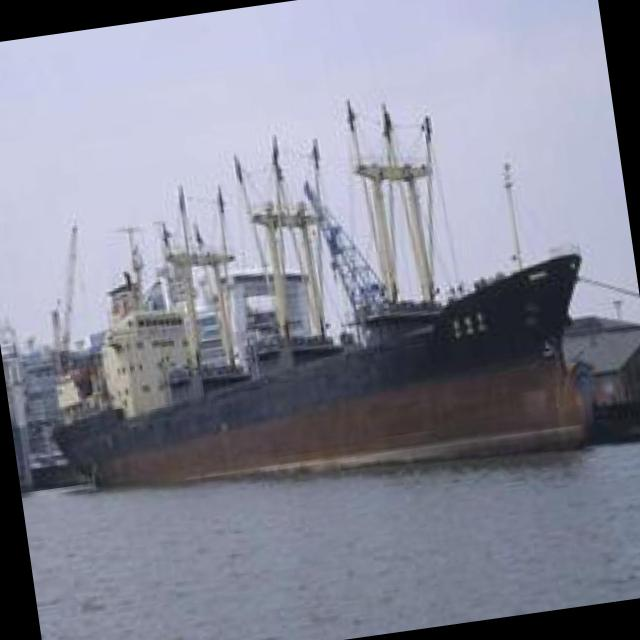boat: (34, 302, 632, 529)
